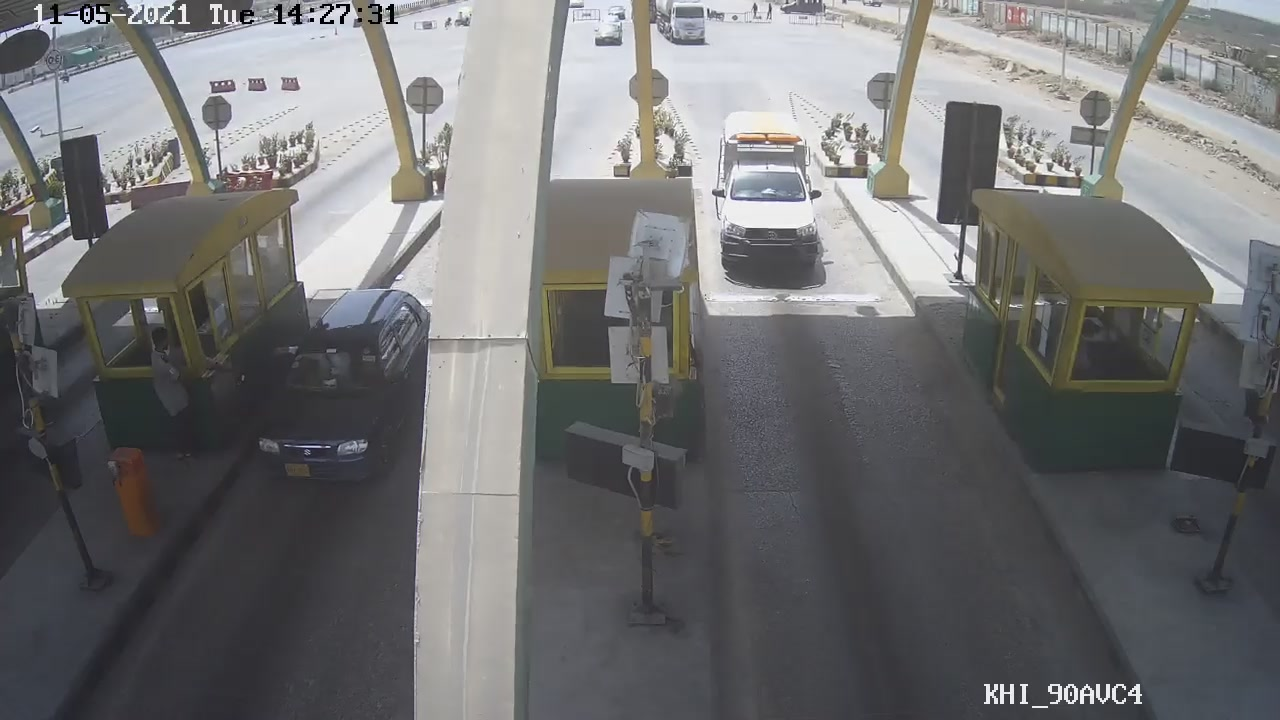F1: (692, 104, 841, 274)
